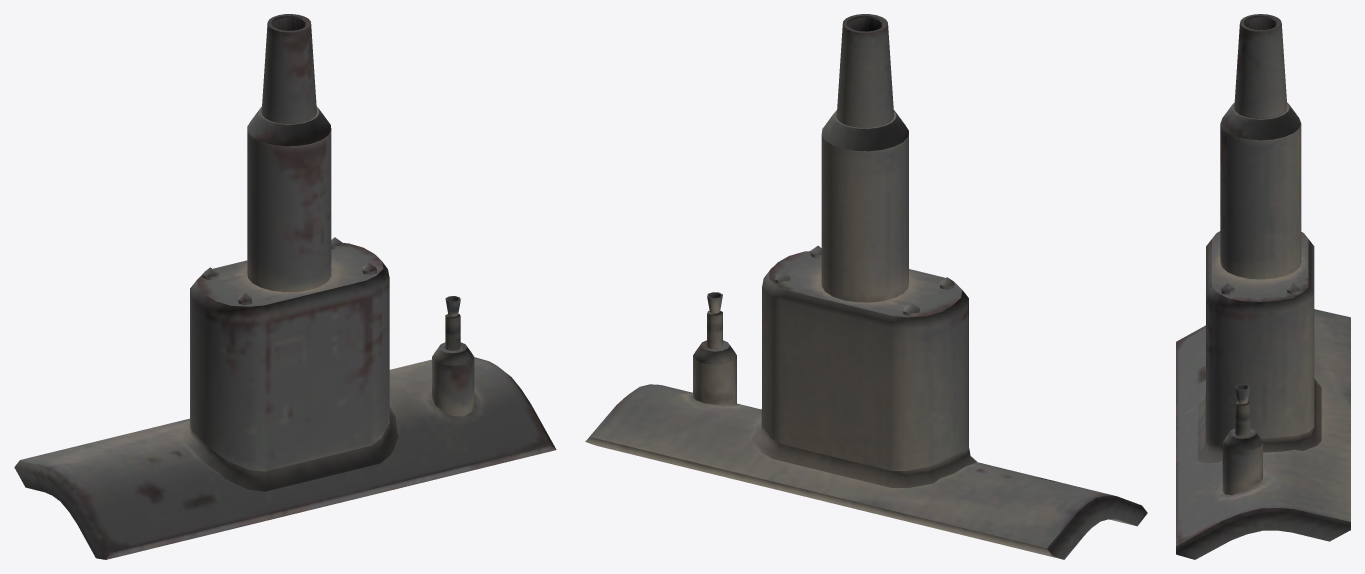
File: Gun_01.glb
3 renders of one model, left to right at view 1: azimuth 30°, elevation 25°; view 2: azimuth 150°, elevation 25°; view 3: azimuth 270°, elevation 25°, orthographic. The views are drawn at different scales.
Parts seen in each view (by area): view 1: set_0_group_0; view 2: set_0_group_0; view 3: set_0_group_0.
Part boxes in pixels (left/top/right/bottom): set_0_group_0: left=14, top=14, right=556, bottom=559; set_0_group_0: left=585, top=14, right=1147, bottom=559; set_0_group_0: left=1176, top=14, right=1350, bottom=559.
Size of the model in its own units: 1.18 by 1.14 by 0.4137.
1 material, 1 textured.
